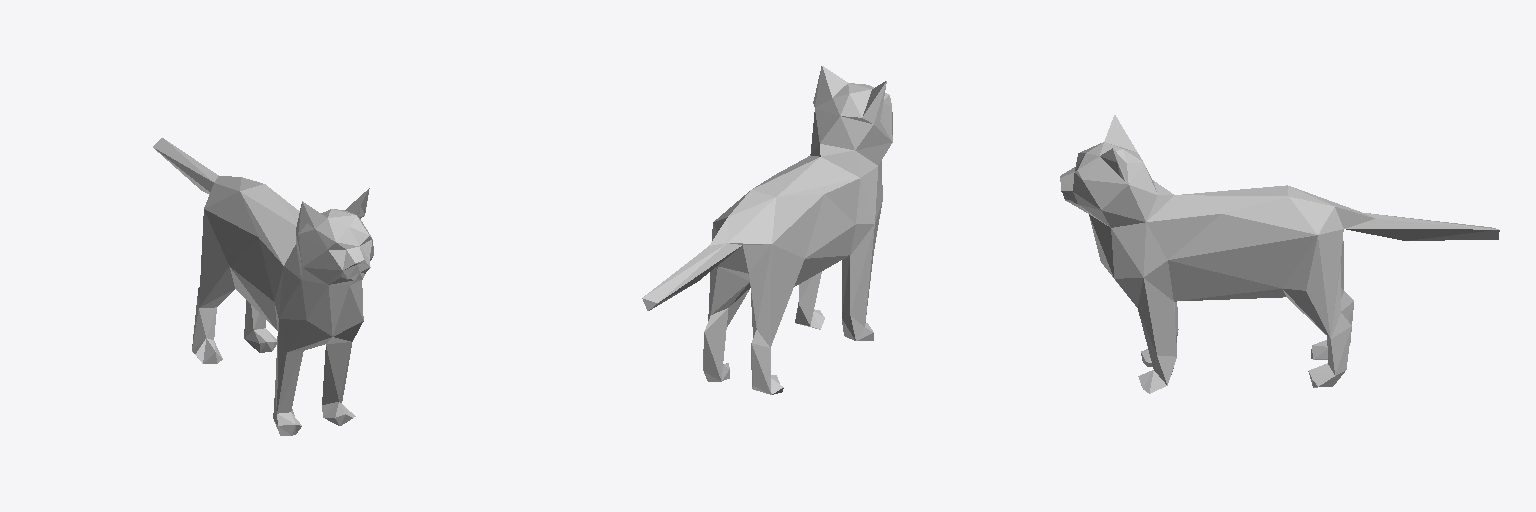
The model's file is superlowcat.obj.
The picture shows the model from 3 angles: view 1: azimuth 30°, elevation 25°; view 2: azimuth 150°, elevation 25°; view 3: azimuth 270°, elevation 25°; orthographic projection.
Parts seen in each view (by area): view 1: 12221_Cat_v1_l3; view 2: 12221_Cat_v1_l3; view 3: 12221_Cat_v1_l3.
Boxes of the visible parts, box(x1,y1,x2,y2) form: 12221_Cat_v1_l3: box(153, 138, 373, 435); 12221_Cat_v1_l3: box(642, 66, 892, 394); 12221_Cat_v1_l3: box(1060, 115, 1499, 393).
Bounding box in the file's own units: 13.44 × 37.89 × 60.71.